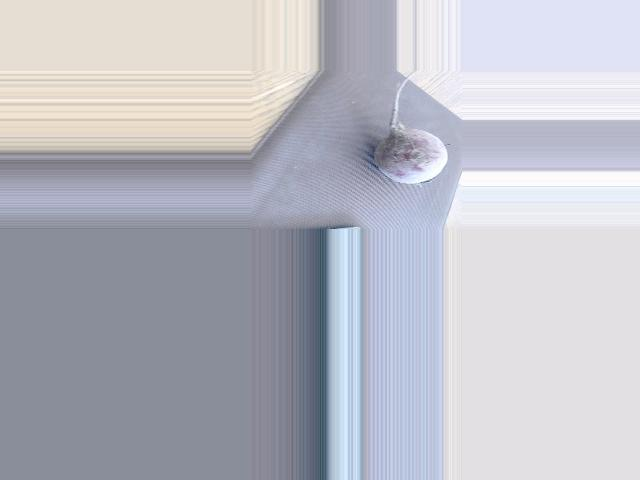beet: (374, 71, 446, 183)
